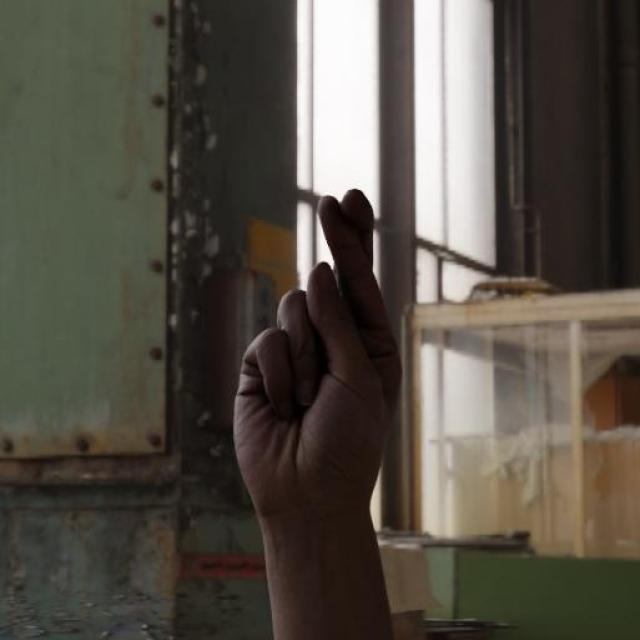R: (226, 186, 404, 514)
